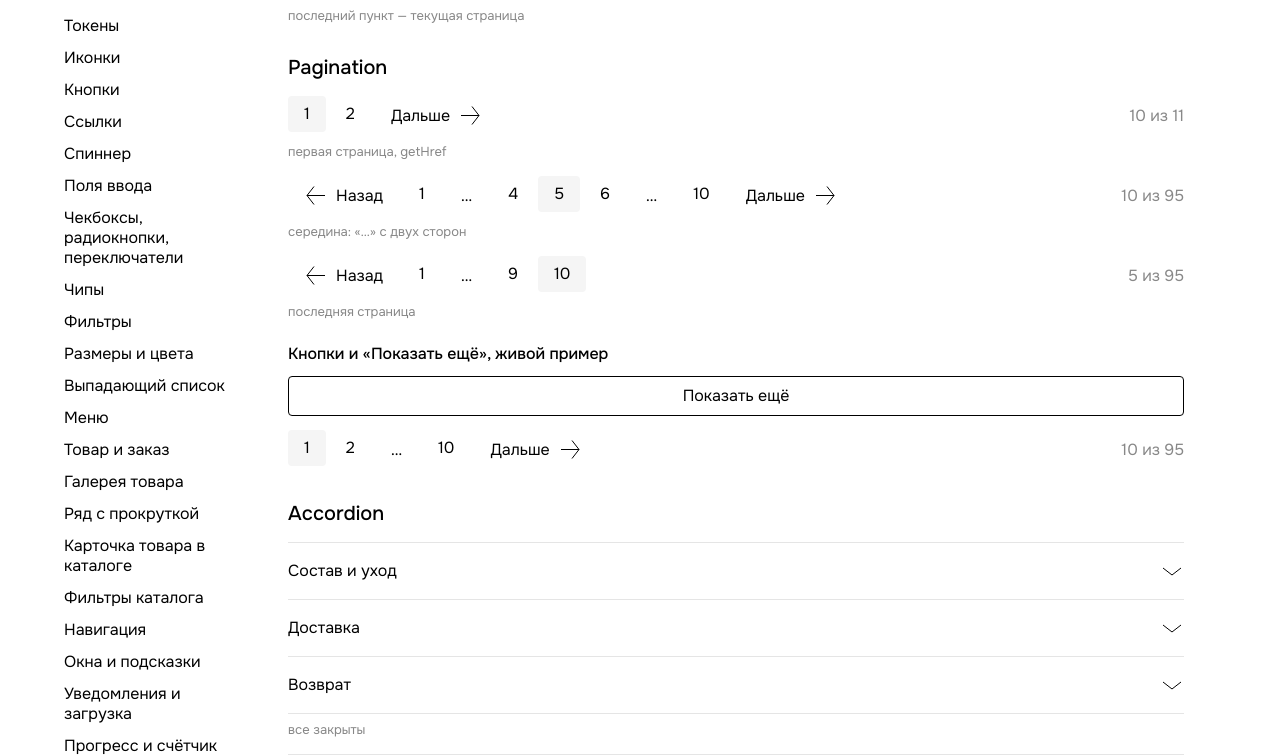
it: navigation section › live pagination › grows the counter with "Показать ещё"
The width and height of the screenshot is (1280, 756).
(page scrolled)
Click the button "Показать ещё" at (736, 396), box [288,376,1184,416]
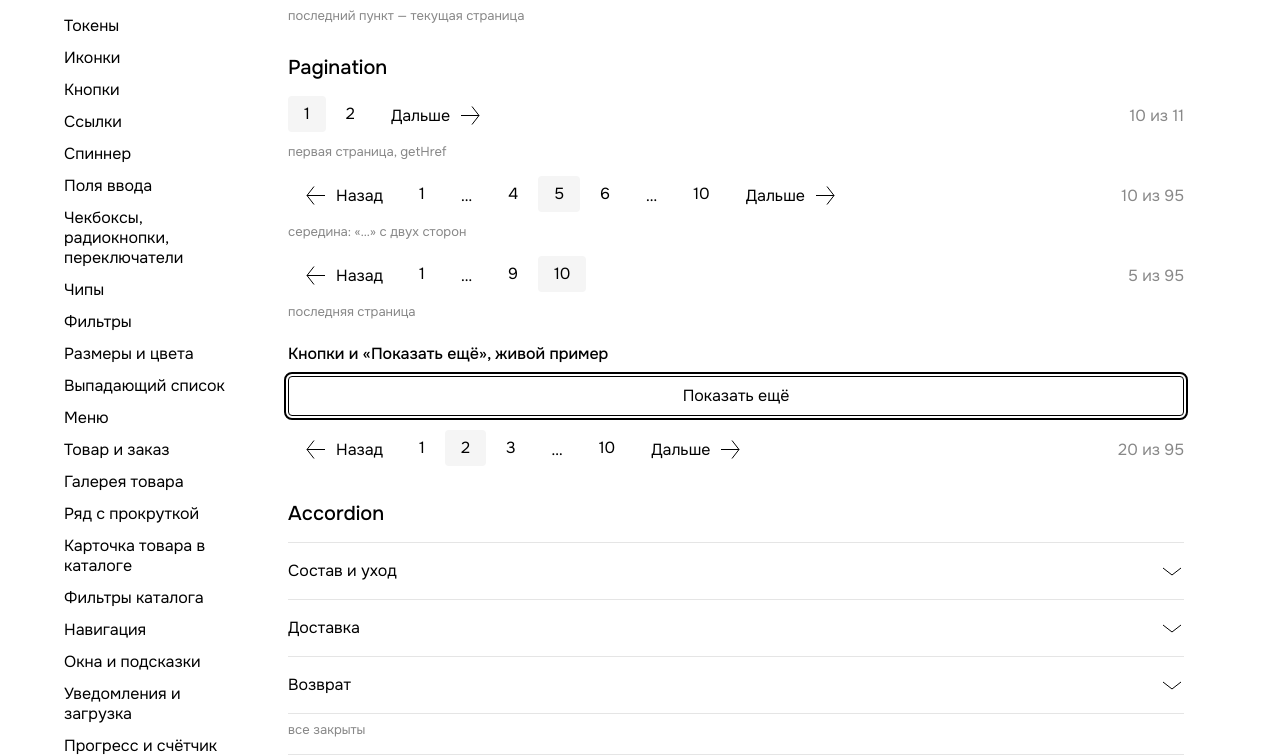
Check: the text "20 из 95" is shown, box [1118,440,1184,460]
